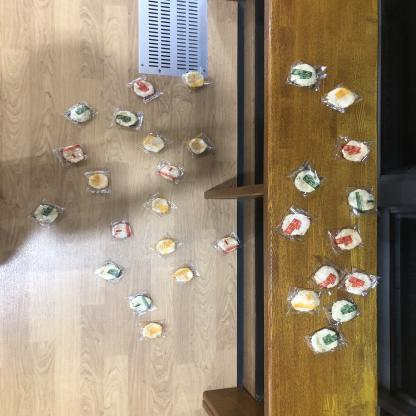green_setoshio: (282, 58, 330, 90), (287, 160, 326, 198), (304, 324, 346, 356), (59, 98, 99, 128), (342, 185, 380, 216), (30, 201, 67, 229), (328, 296, 362, 325), (109, 105, 147, 130), (94, 258, 128, 284), (127, 291, 159, 316)
red_setoshio: (325, 223, 368, 254), (278, 206, 317, 240), (123, 72, 164, 103), (334, 136, 375, 167), (345, 266, 383, 298), (309, 261, 347, 291), (54, 142, 93, 170), (150, 162, 190, 184), (209, 231, 245, 255), (106, 218, 137, 241)
yellow_setoshio: (320, 85, 363, 113), (285, 287, 325, 315), (181, 131, 215, 161), (179, 65, 213, 92), (144, 192, 178, 218), (152, 233, 186, 257), (139, 132, 170, 156), (171, 262, 202, 286), (137, 320, 170, 341), (86, 170, 114, 194)
